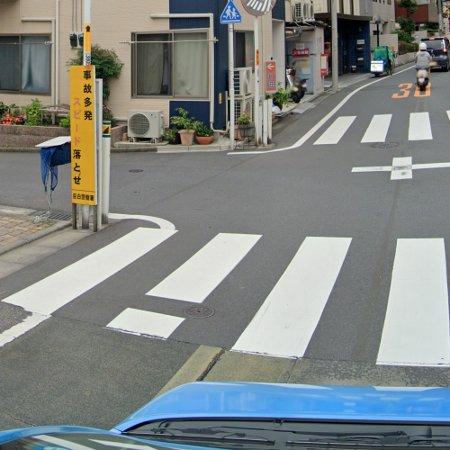crosswalks: (317, 109, 450, 144)
